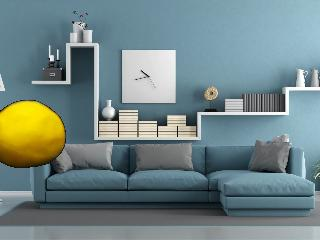lemon: (0, 101, 65, 167)
